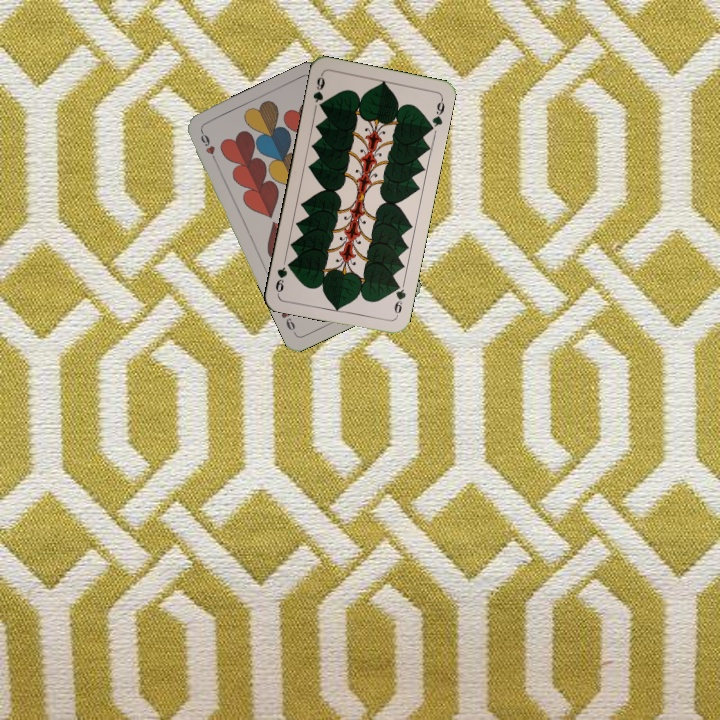G9: (390, 279, 409, 320), (309, 70, 327, 112)
H9: (196, 127, 219, 165)
